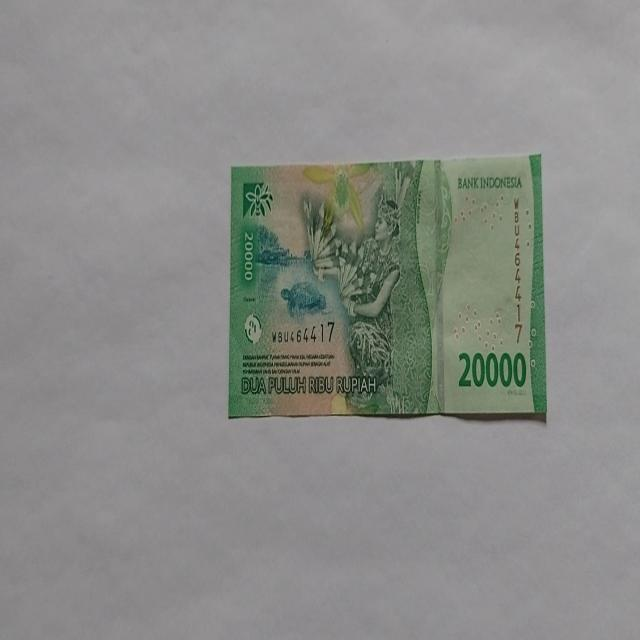dua puluh ribu rupiah: (228, 152, 546, 422)
